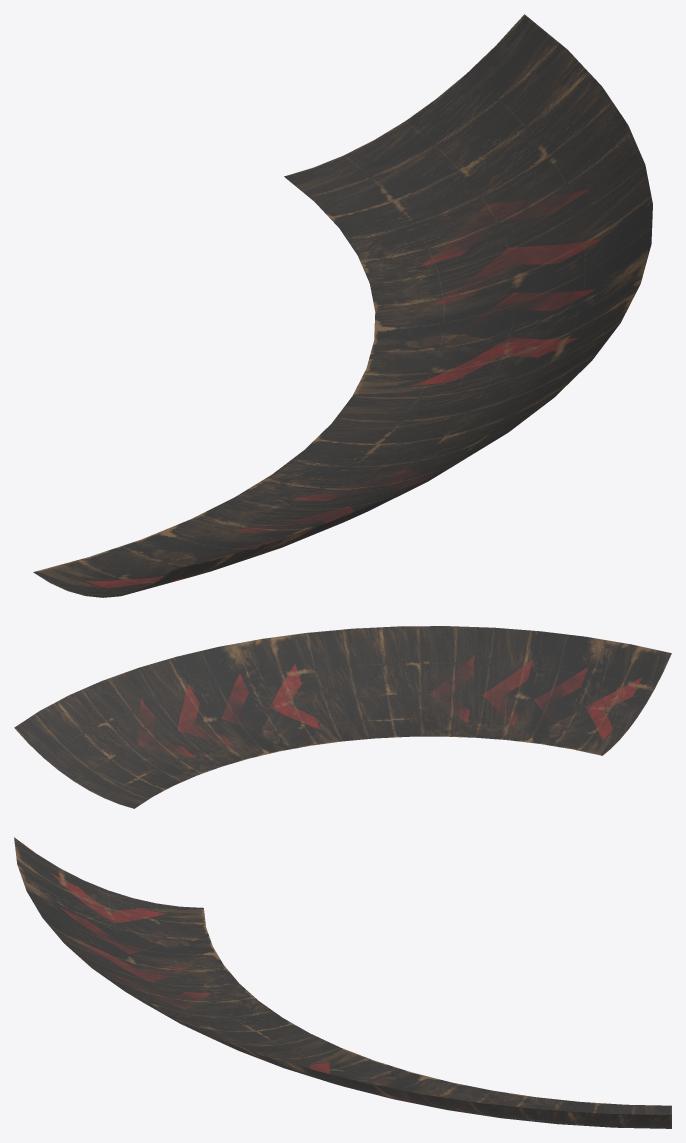
File: Route_V_C_90x2.fbx
3 renders of one model, top to bottom at view 1: azimuth 30°, elevation 25°; view 2: azimuth 150°, elevation 25°; view 3: azimuth 270°, elevation 25°, orthographic. The views are drawn at different scales.
Visible parts, largest first — view 1: polySurface349; view 2: polySurface349; view 3: polySurface349.
Part boxes in pixels (<box>): polySurface349: <box>33,14,652,597</box>; polySurface349: <box>14,626,671,808</box>; polySurface349: <box>14,837,671,1128</box>.
Bounding box in the file's own units: 44.39 × 5.27 × 44.39.
